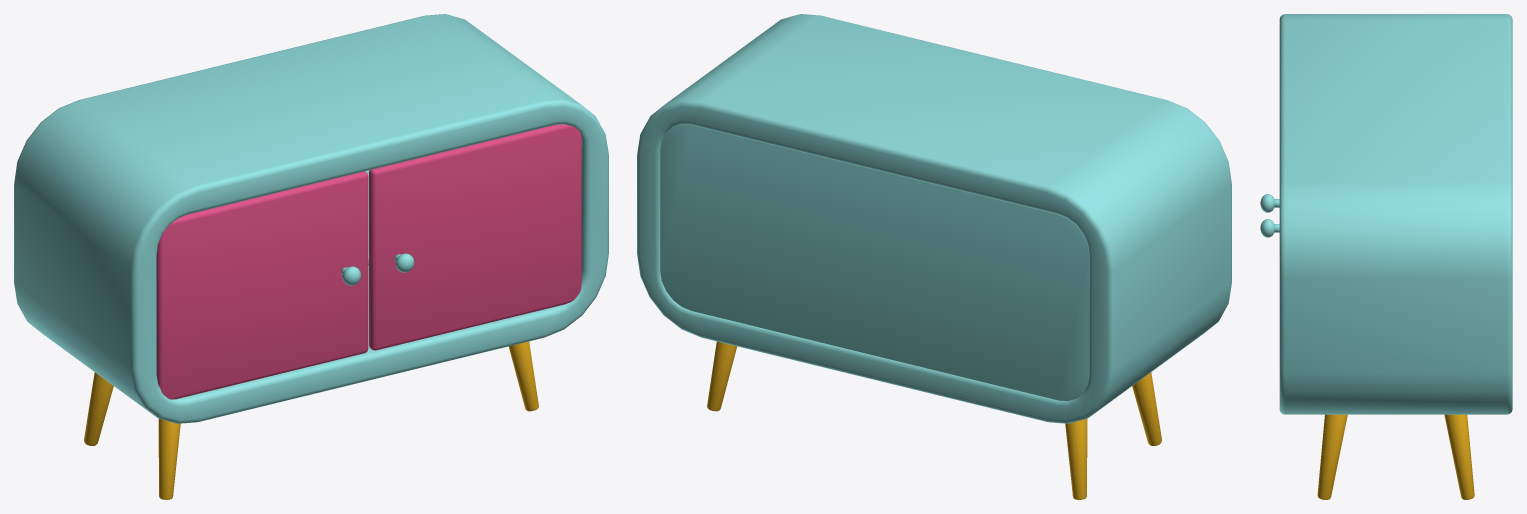
File: rack_retro_turquesa.glb
3 views of the same model, side by side, from view 1: azimuth 30°, elevation 25°; view 2: azimuth 150°, elevation 25°; view 3: azimuth 270°, elevation 25° (orthographic). The views are drawn at different scales.
Visible parts, largest first — view 1: rack_retro_turquesa, porta_2, porta_1; view 2: rack_retro_turquesa; view 3: rack_retro_turquesa.
Part boxes in pixels (bbox=[...]): rack_retro_turquesa: bbox=[14, 14, 608, 499]; porta_2: bbox=[369, 124, 581, 350]; porta_1: bbox=[156, 171, 368, 399]; rack_retro_turquesa: bbox=[637, 14, 1231, 499]; rack_retro_turquesa: bbox=[1279, 14, 1512, 499].
Bounding box in the file's own units: 0.95 × 0.6215 × 0.4546.
1 material, 1 textured.
